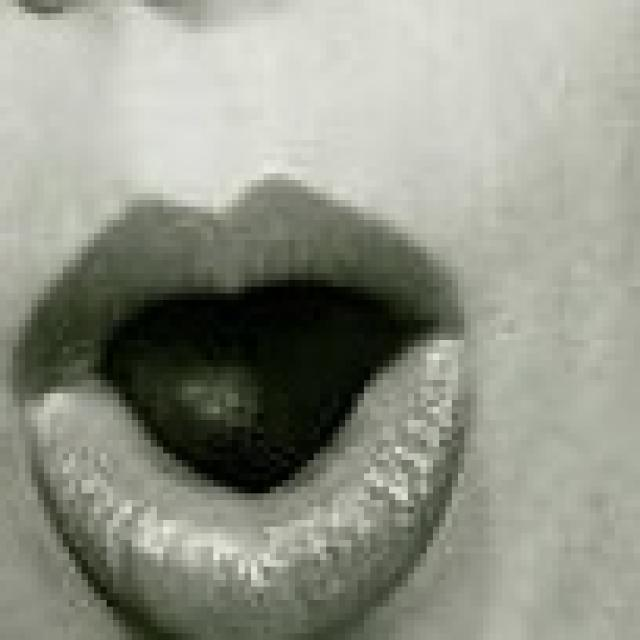open-mouth: (6, 166, 471, 634)
